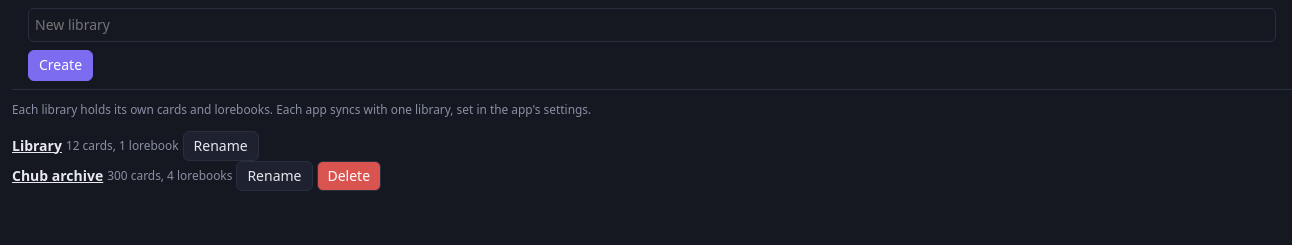
Scenario: a refused create says why
In the field labelled "New library": (652,25) top-left (28, 8), bottom-right (1276, 42), type "Drafts"
Then press Enter
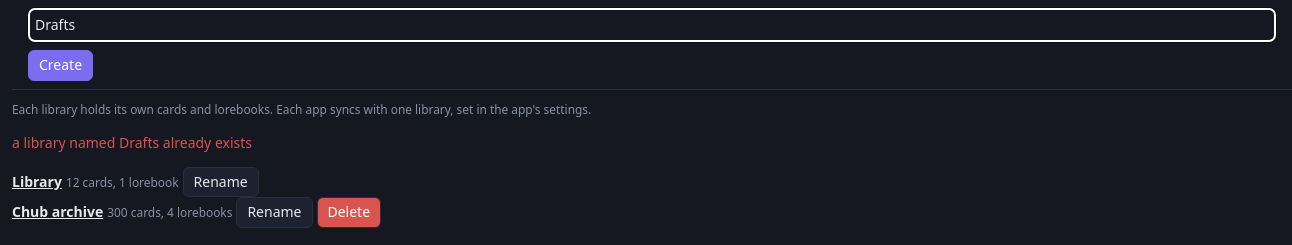
expect the text "a library named Drafts already exists" is shown: met, box top-left (12, 133), bottom-right (252, 152)
